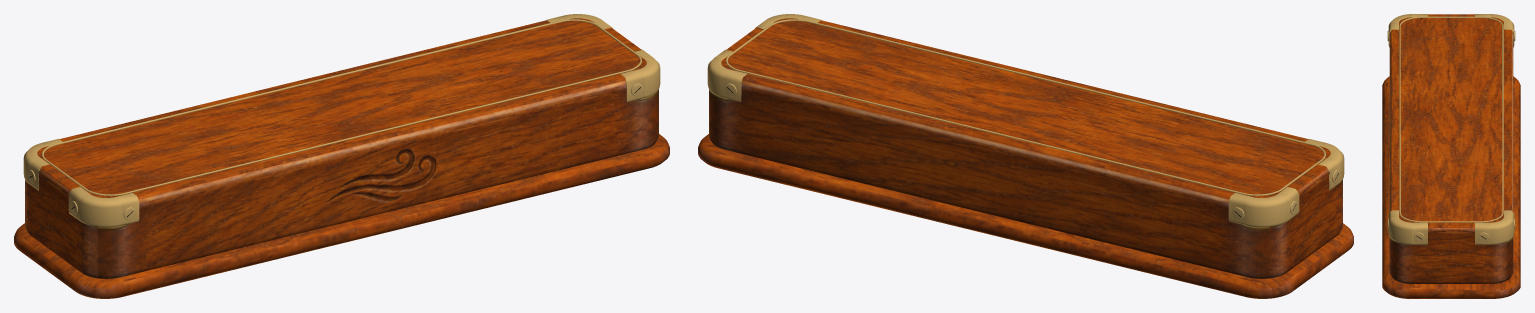
Rendered from wind_chime_base.glb.
3 views of the same model, side by side, from view 1: azimuth 30°, elevation 25°; view 2: azimuth 150°, elevation 25°; view 3: azimuth 270°, elevation 25° (orthographic). The views are drawn at different scales.
Visible parts, largest first — view 1: OakBody_Wood, CornerCaps_Brass, BrassInlay_Brass, Screws_PolishedBrass; view 2: OakBody_Wood, CornerCaps_Brass, BrassInlay_Brass, Screws_PolishedBrass; view 3: OakBody_Wood, CornerCaps_Brass, BrassInlay_Brass, Screws_PolishedBrass.
Part boxes in pixels (x1,y1,x2,y2): OakBody_Wood: (14, 18, 669, 298); CornerCaps_Brass: (23, 14, 660, 227); BrassInlay_Brass: (42, 19, 641, 196); Screws_PolishedBrass: (28, 83, 643, 220); OakBody_Wood: (698, 18, 1353, 298); CornerCaps_Brass: (707, 14, 1344, 227); BrassInlay_Brass: (726, 19, 1325, 196); Screws_PolishedBrass: (724, 83, 1339, 220); OakBody_Wood: (1382, 14, 1520, 298); CornerCaps_Brass: (1388, 14, 1514, 244); BrassInlay_Brass: (1399, 16, 1503, 222); Screws_PolishedBrass: (1387, 30, 1515, 242).
Bounding box in the file's own units: 0.42 × 0.0649 × 0.112.
4 materials, 1 textured.
